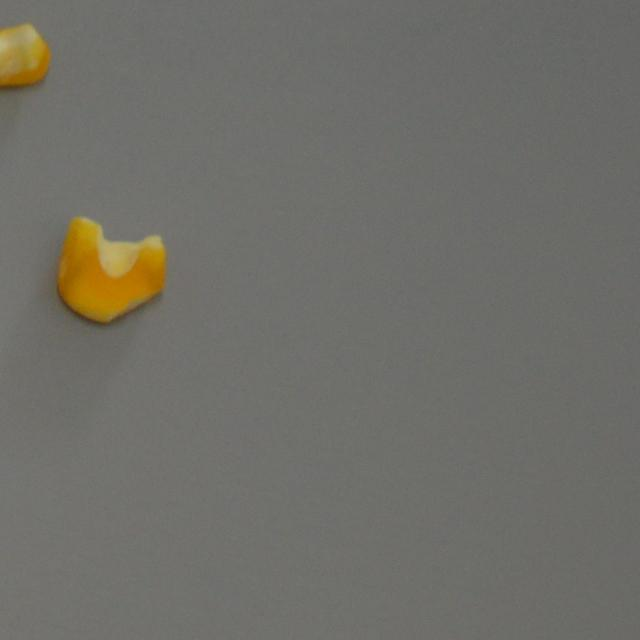dañado: (52, 204, 175, 330)
no_desgerminado: (0, 20, 57, 94)
